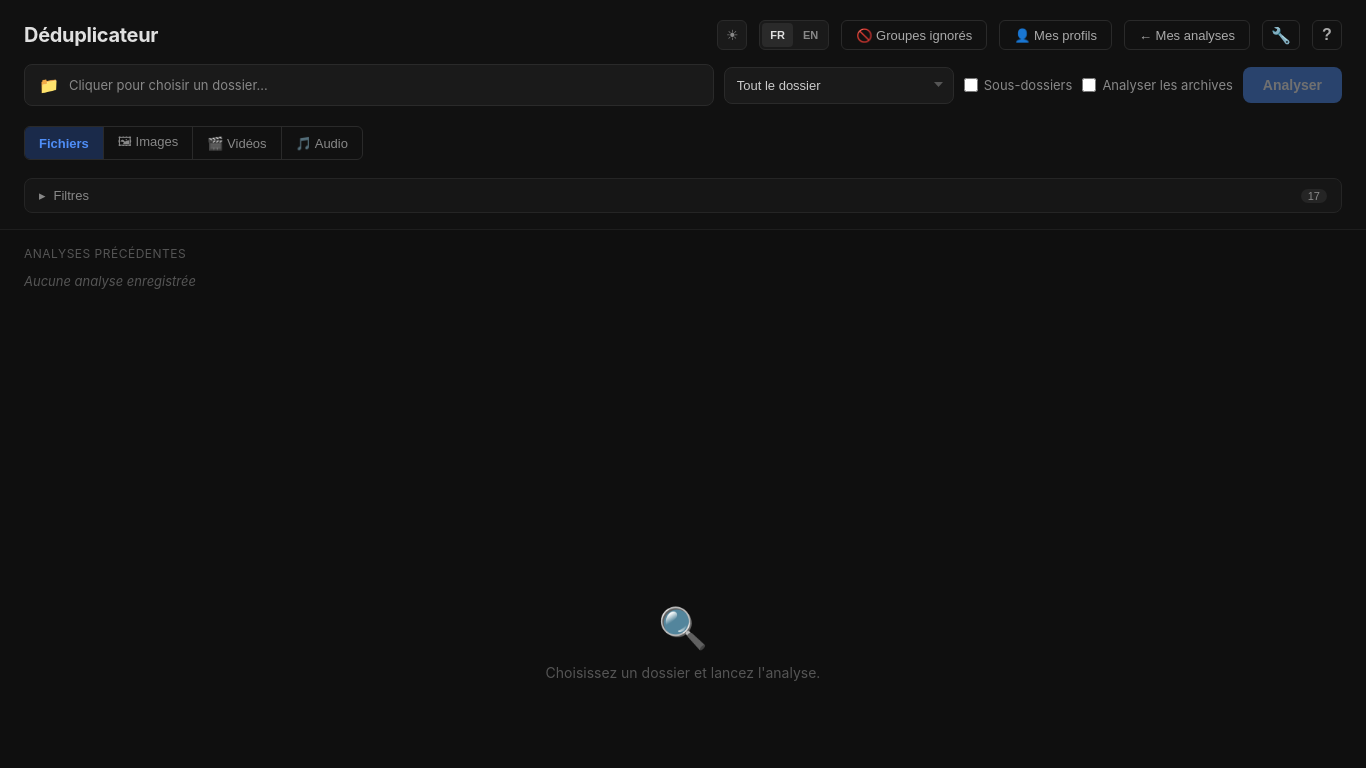
Scenario: C - suppression de fichiers › met a jour total_wasted_bytes apres suppression
Click the text "Cliquer pour choisir un dossier…" at (168, 85), box x1=69 y1=77 x2=268 y2=93
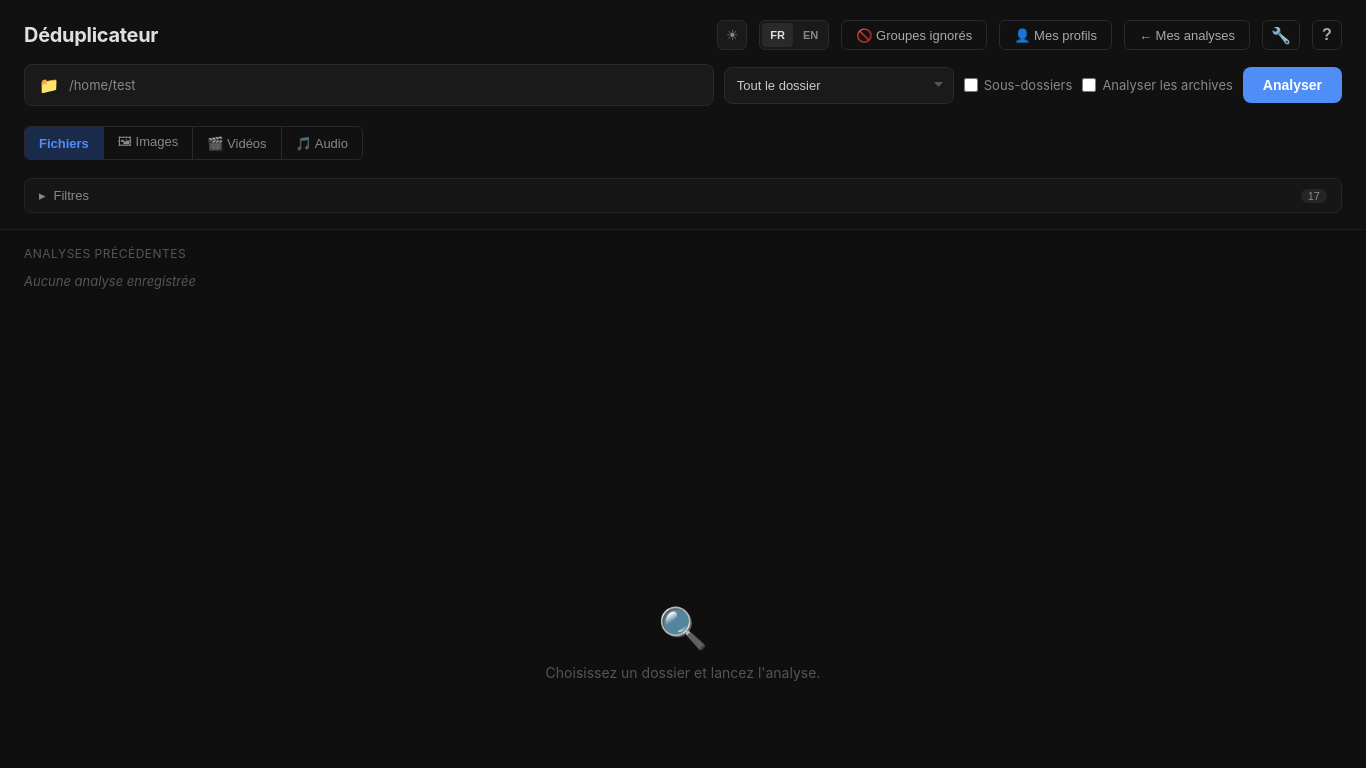
expect the text "/home/test" is shown: met, box x1=69 y1=77 x2=136 y2=93
Click the button "Analyser" at (1292, 85), box x1=1243 y1=67 x2=1342 y2=103
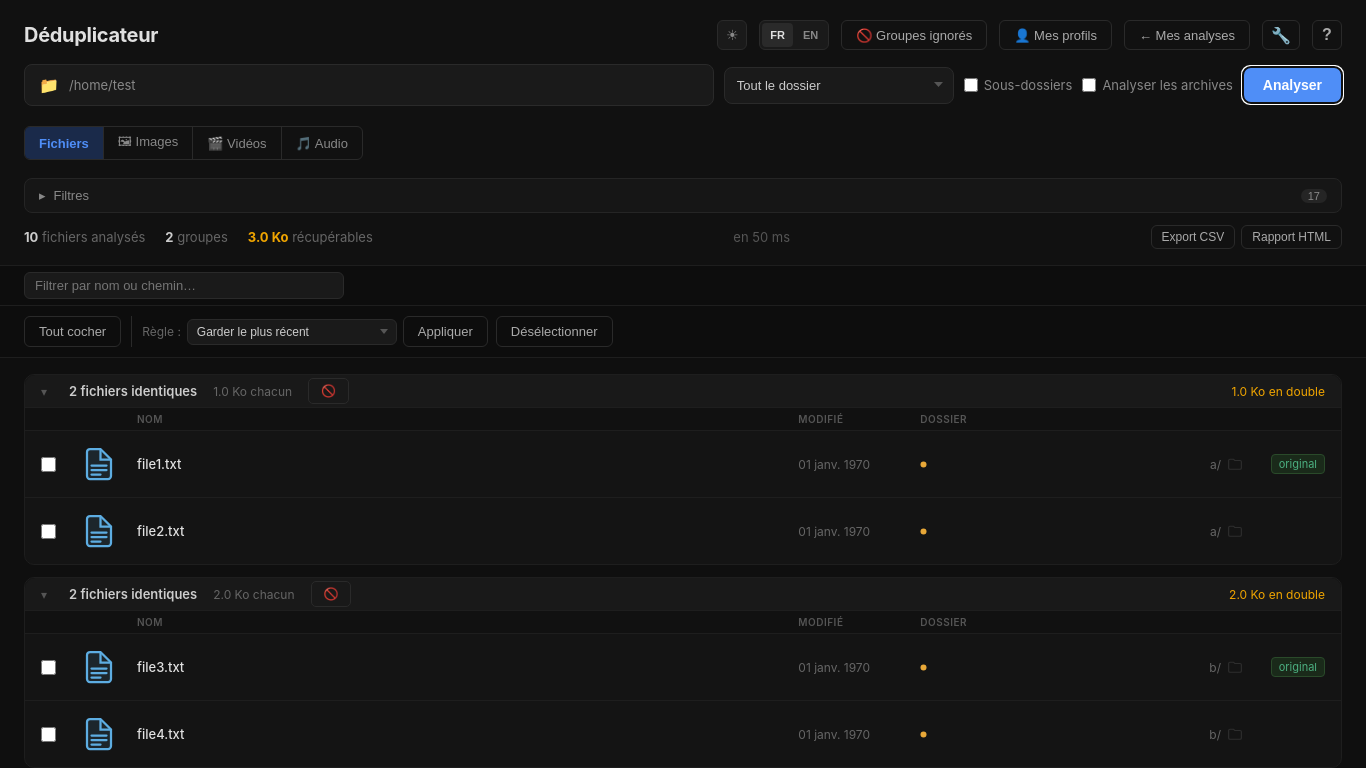
expect the text "3.0 Ko" is shown: met, box x1=248 y1=229 x2=288 y2=245
Supprimer file1 du groupe 1 (groupe 1 disparait, seul groupe 2 reste : 2048 o)
Click the checkbox next to "file1.txt" at (48, 464), box x1=41 y1=456 x2=56 y2=472
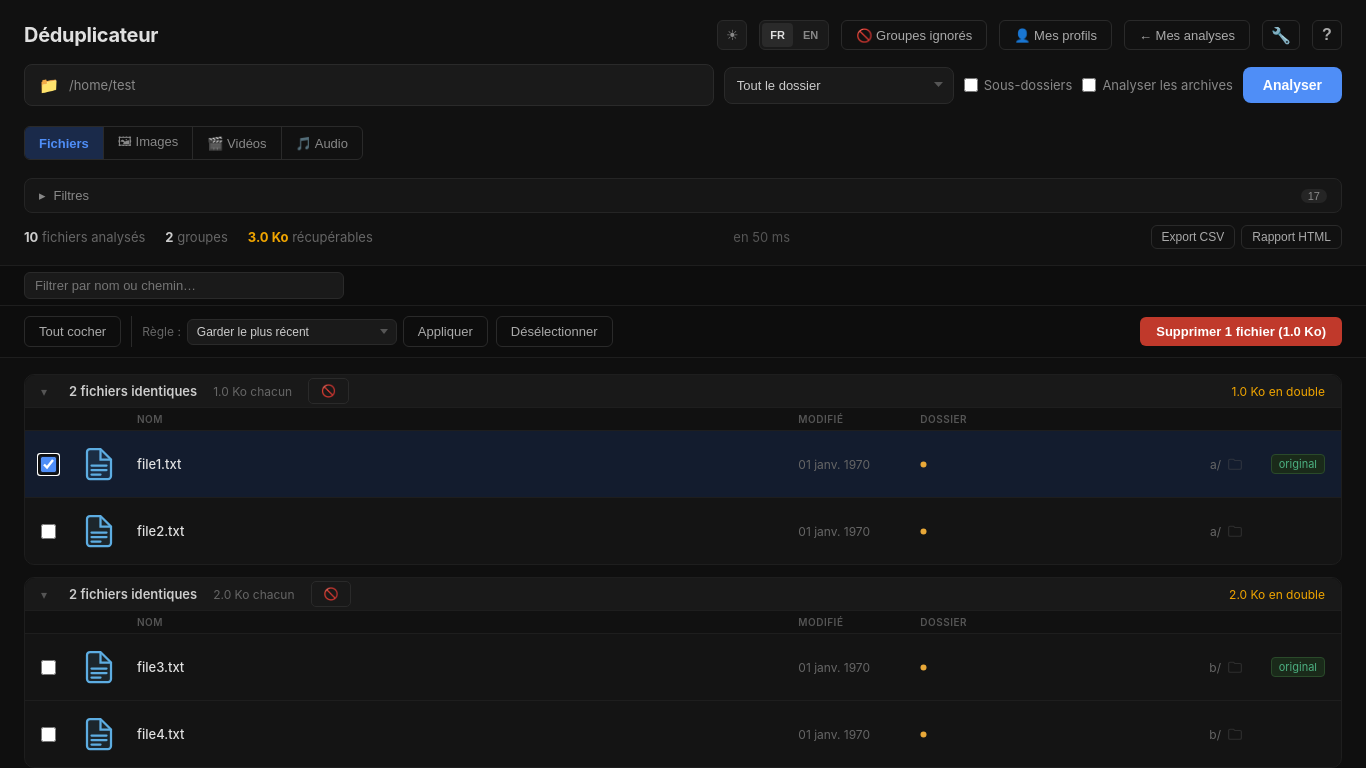
Click the button "Supprimer 1 fichier (1.0 Ko)" at (1241, 332), box x1=1140 y1=317 x2=1342 y2=346
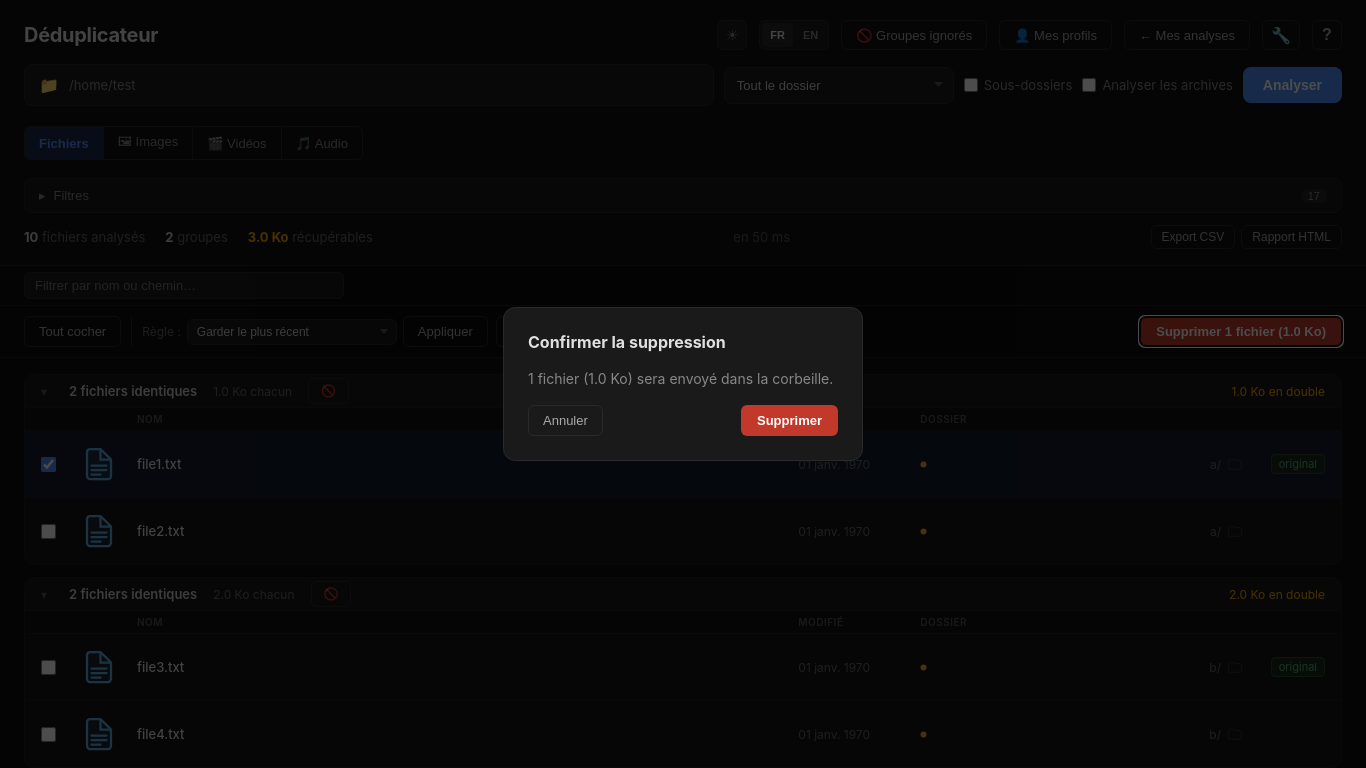
Click the button "Supprimer" at (790, 420), box x1=741 y1=405 x2=838 y2=436
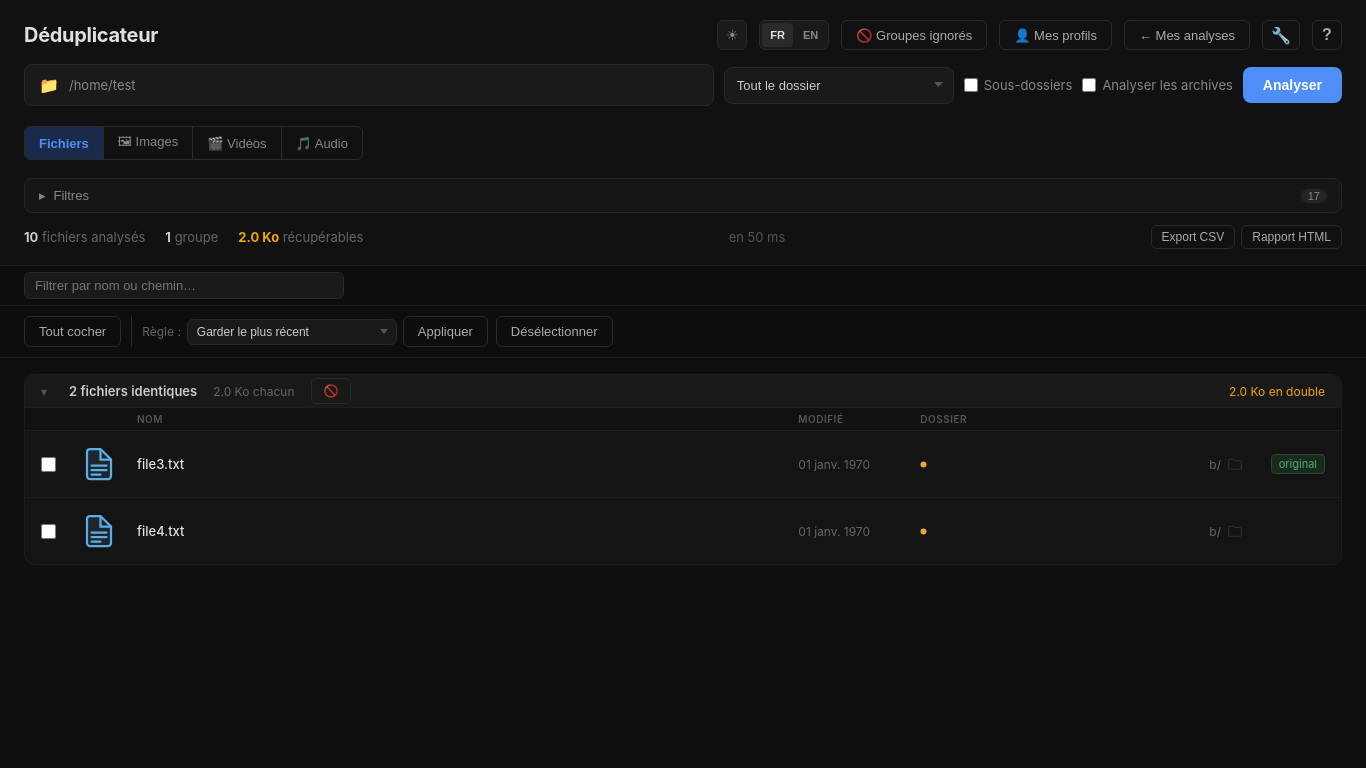
expect the text "2.0 Ko" is shown: met, box x1=238 y1=229 x2=279 y2=245
expect the text "3.0 Ko" is gone: met
